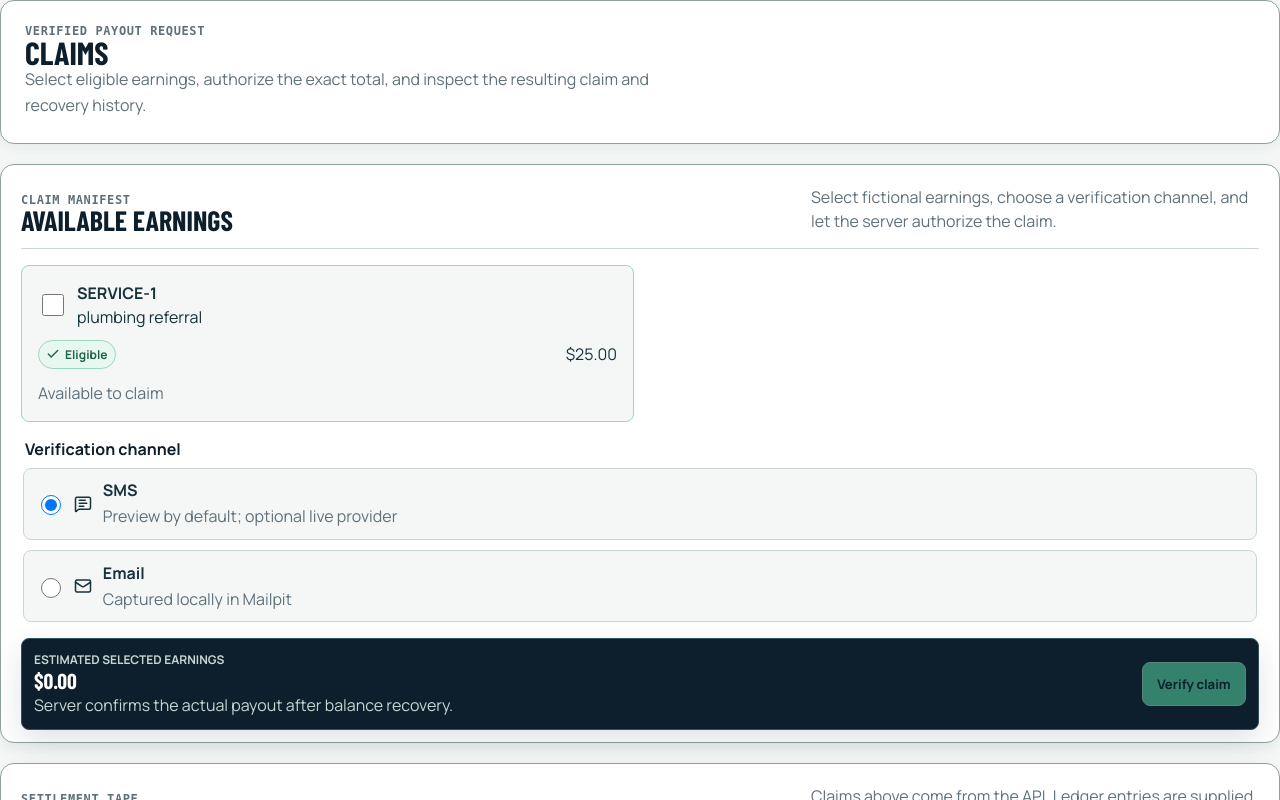
PartnerWorkspaceProvider › preserves the last successful workboard when post-claim refresh fails
Expected: the heading "Claims" is shown, [25,33,109,71]
Click the checkbox labelled "plumbing referral SERVICE-1": (53,305) [42,294,64,316]
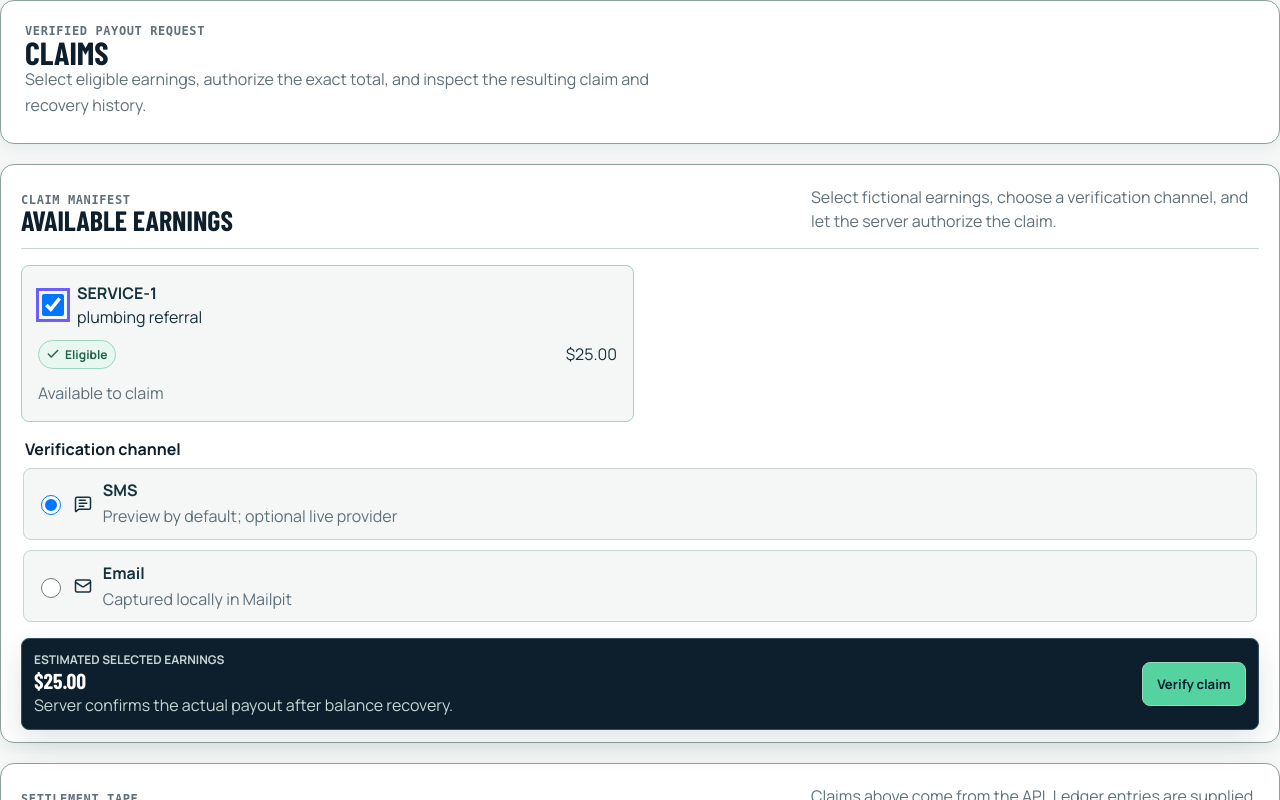
Click the button "Verify claim": (1194,684) [1142,662,1246,706]
(page scrolled)
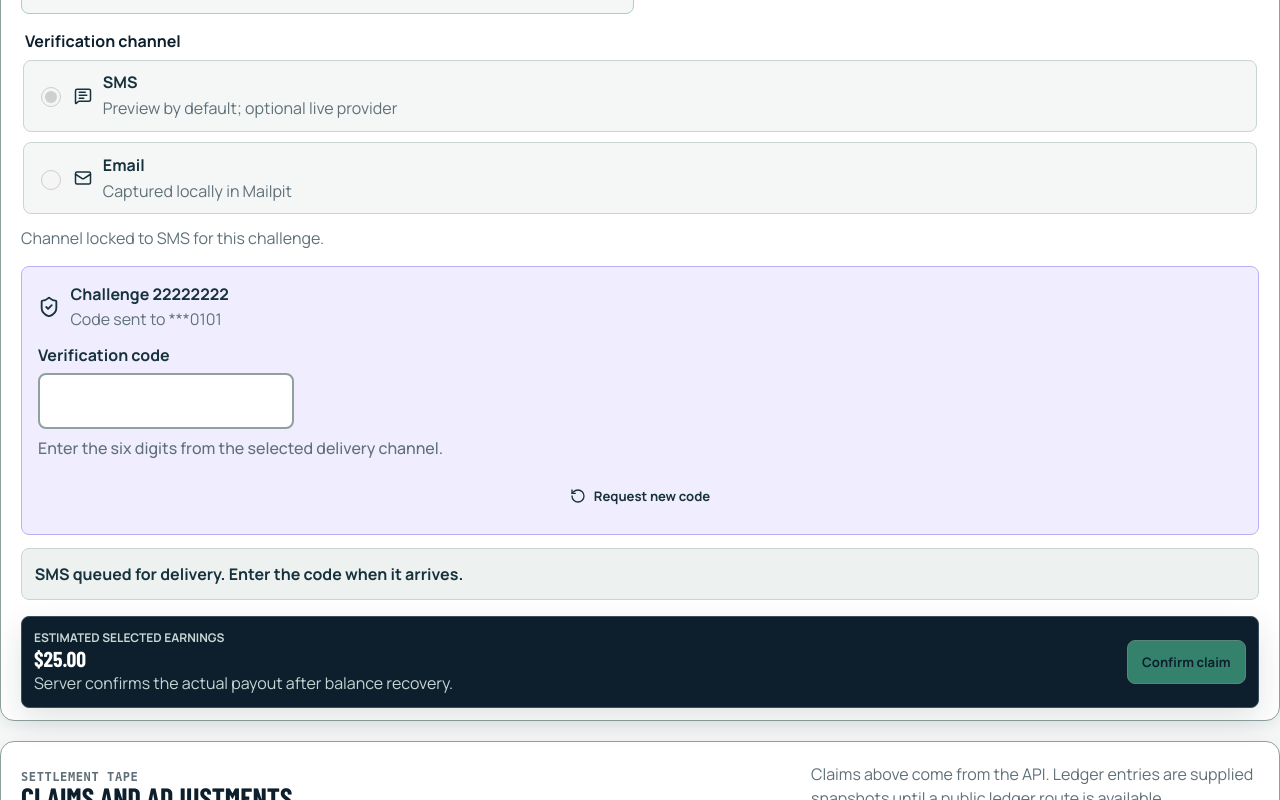
In the field labelled "Verification code": (166,401) [38,373,294,429], type "418205"
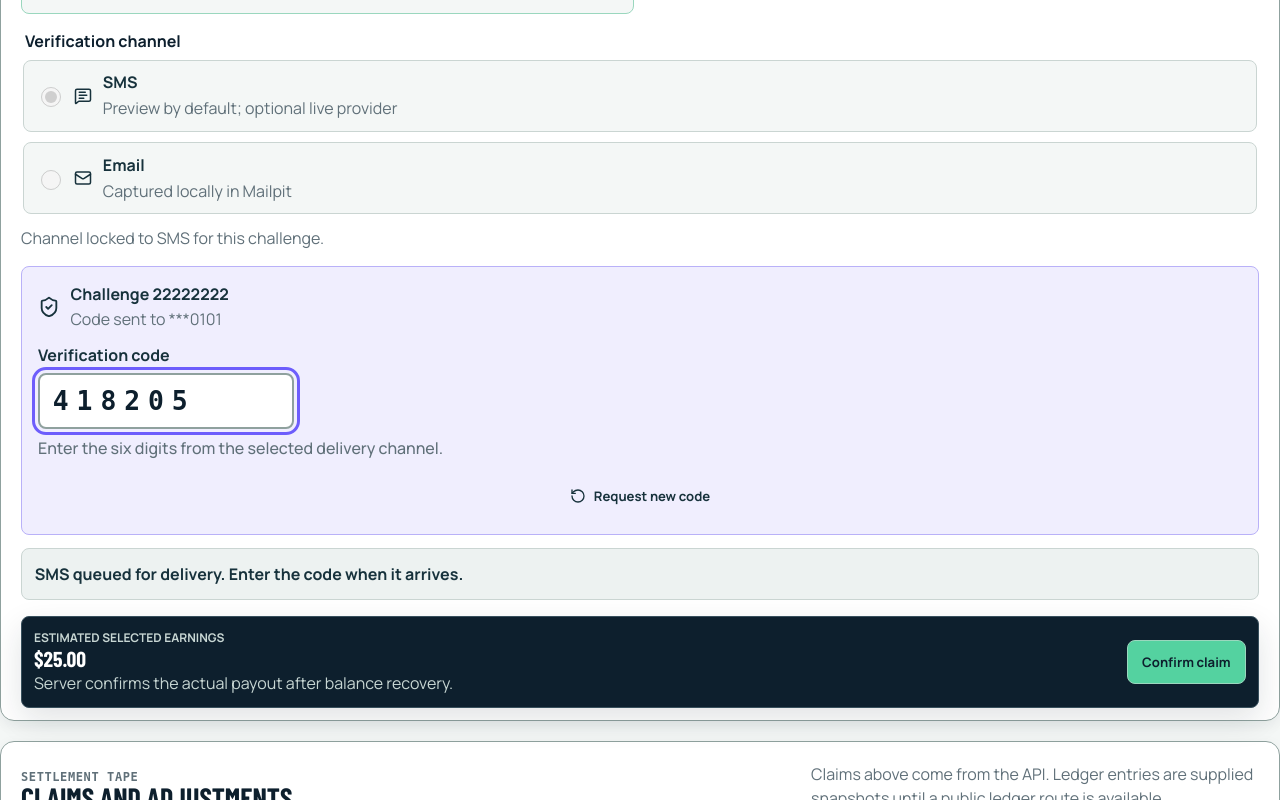
Click the button "Confirm claim": (1186,662) [1127,640,1246,684]
(page scrolled)
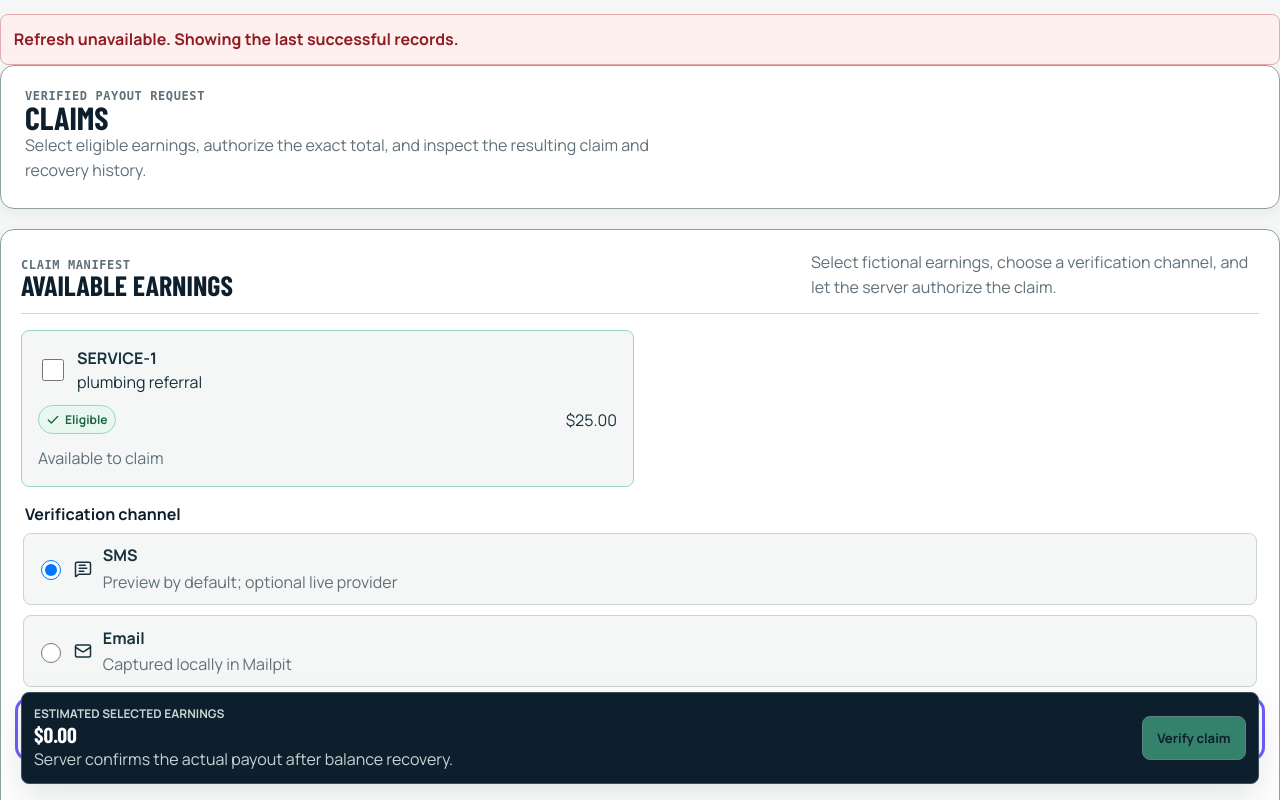
Expected: the heading "Claims" is shown, [25,98,109,136]
Expected: the text "Claim created. The server is processing the payout." is shown, [21,703,1259,755]
Expected: the message "Refresh unavailable. Showing the last successful records." is shown, [0,14,1279,65]
